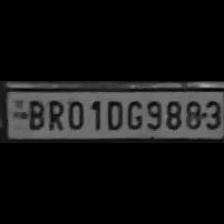0: (64, 97, 86, 131)
1: (85, 97, 103, 131)
3: (202, 96, 222, 130)
8: (162, 97, 182, 131), (182, 97, 202, 131)
9: (143, 97, 161, 131)
B: (22, 98, 46, 130)
D: (102, 96, 124, 130)
G: (124, 97, 142, 131)
R: (45, 96, 65, 132)
